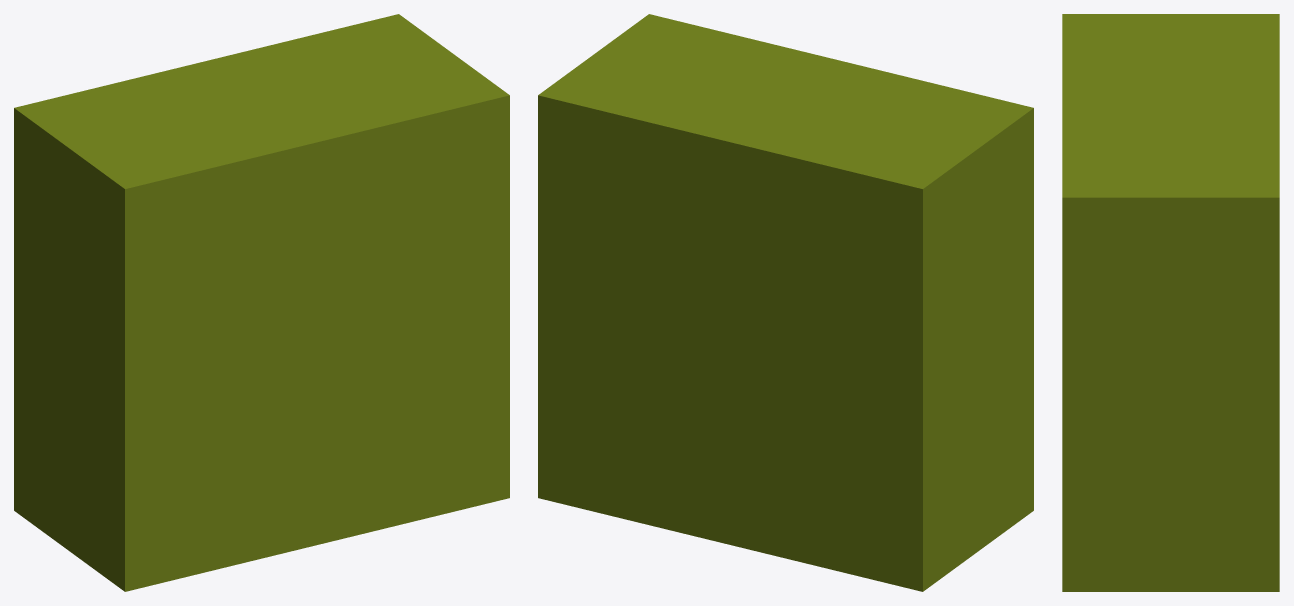
File: Grass_VerticalSlab.glb
3 views of the same model, side by side, from view 1: azimuth 30°, elevation 25°; view 2: azimuth 150°, elevation 25°; view 3: azimuth 270°, elevation 25° (orthographic). The views are drawn at different scales.
Parts seen in each view (by area): view 1: Grass_VerticalSlab_body; view 2: Grass_VerticalSlab_body; view 3: Grass_VerticalSlab_body.
Boxes of the visible parts, box(x1,y1,x2,y2) form: Grass_VerticalSlab_body: box(14, 14, 509, 591); Grass_VerticalSlab_body: box(538, 14, 1033, 591); Grass_VerticalSlab_body: box(1062, 14, 1279, 591).
Size of the model in its own units: 1 by 1 by 0.5.
Materials: 1 (1 with a texture image).
